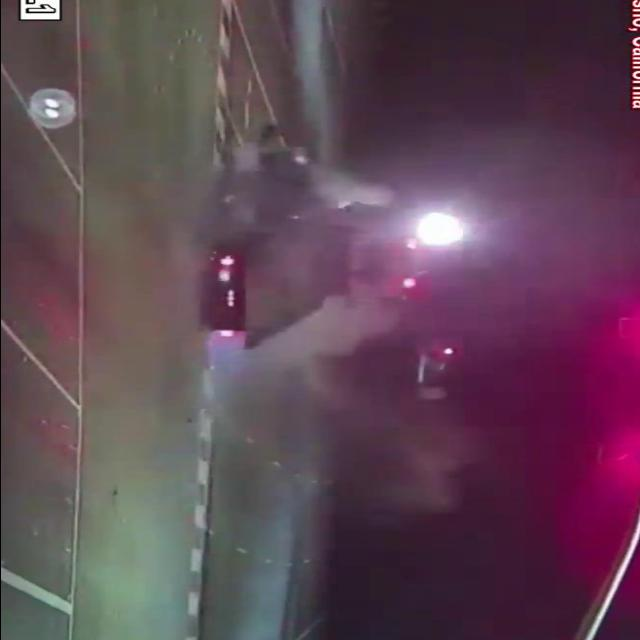accident: (182, 139, 437, 353)
